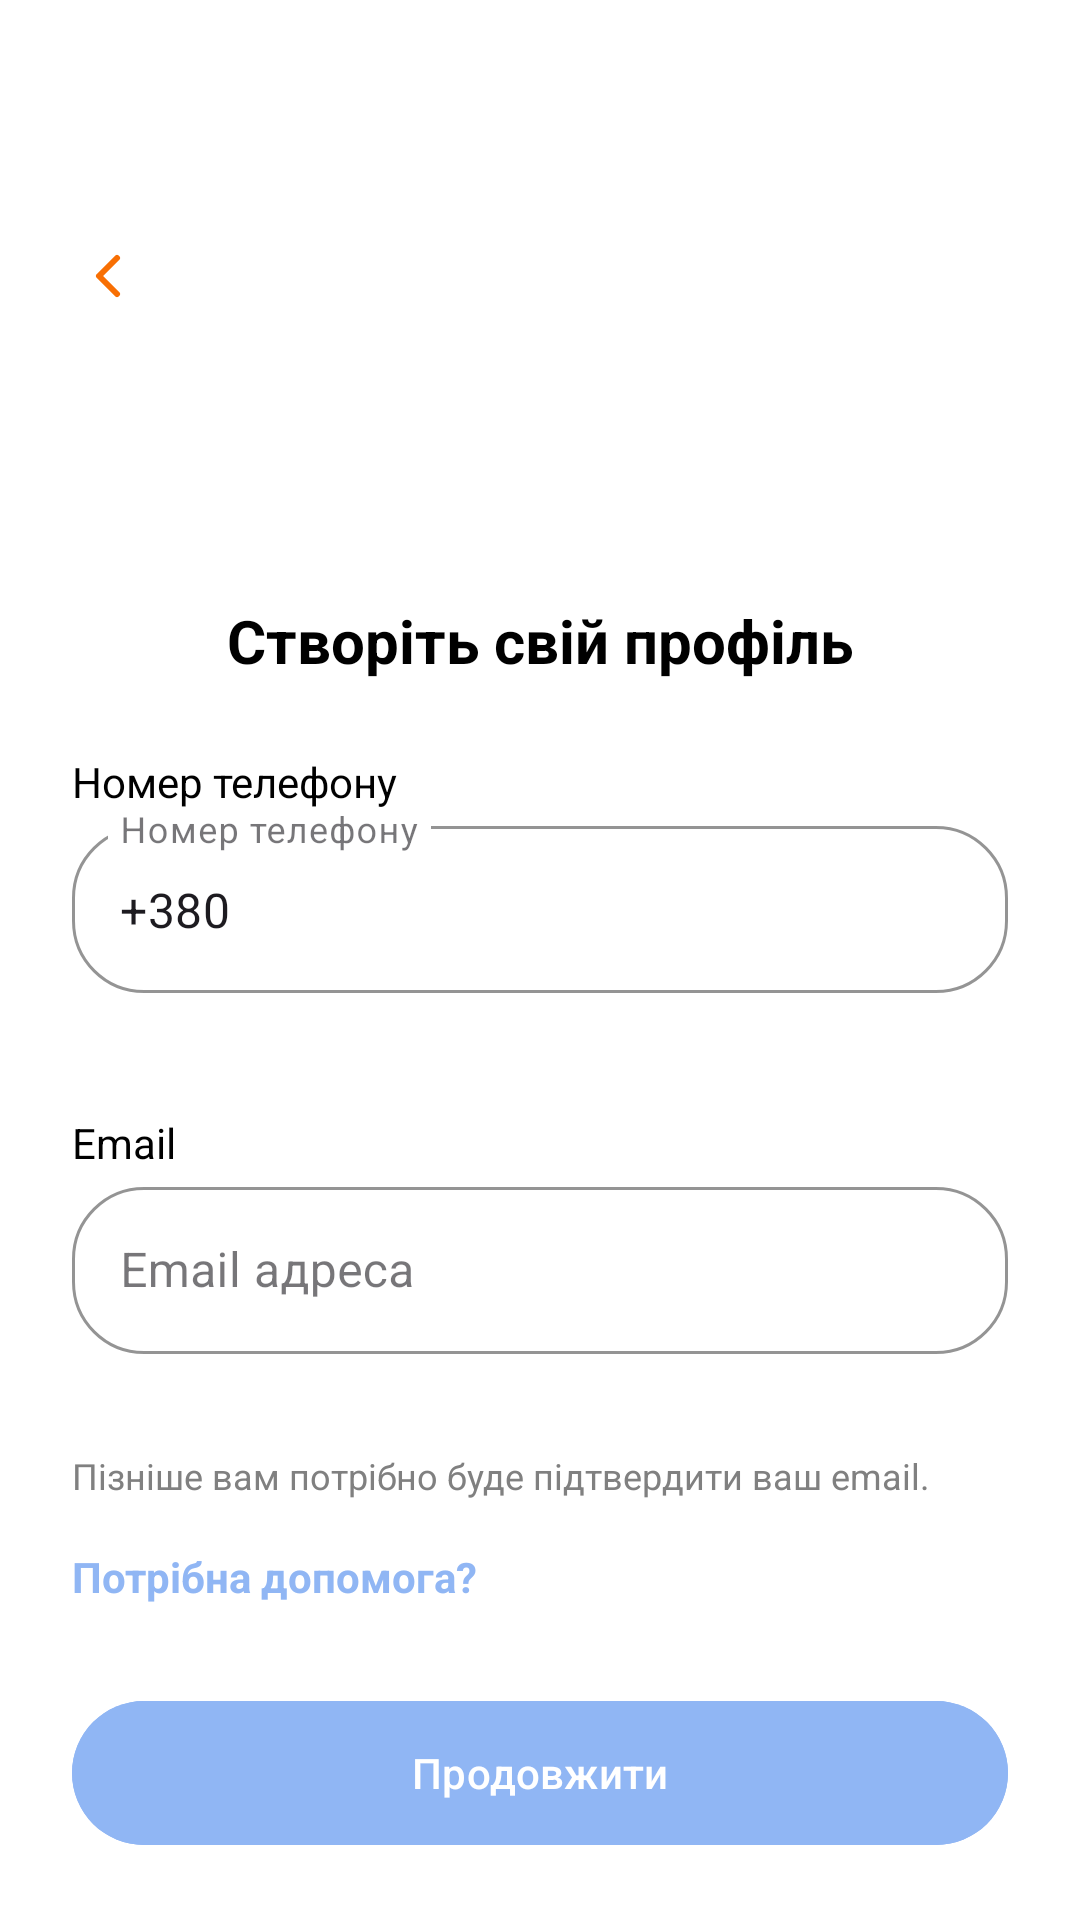

Where to tap for icons on this 1080 x 1920 app screen, as (x=x, y=y):
back: (x=108, y=276)
